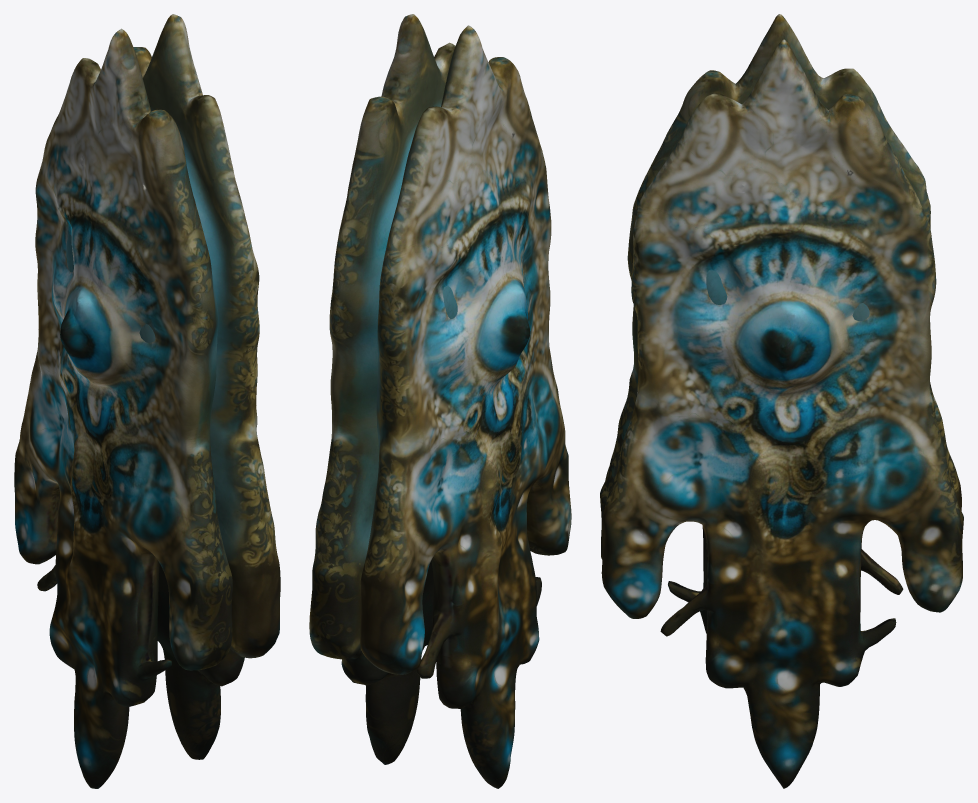
The model's file is hamsa-evil-eye-3d.glb.
3 views of the same model, side by side, from view 1: azimuth 30°, elevation 25°; view 2: azimuth 150°, elevation 25°; view 3: azimuth 270°, elevation 25° (orthographic). The views are drawn at different scales.
Bounding box in the file's own units: 0.2914 × 1.2 × 0.5381.
Materials: 2 (2 with a texture image).
